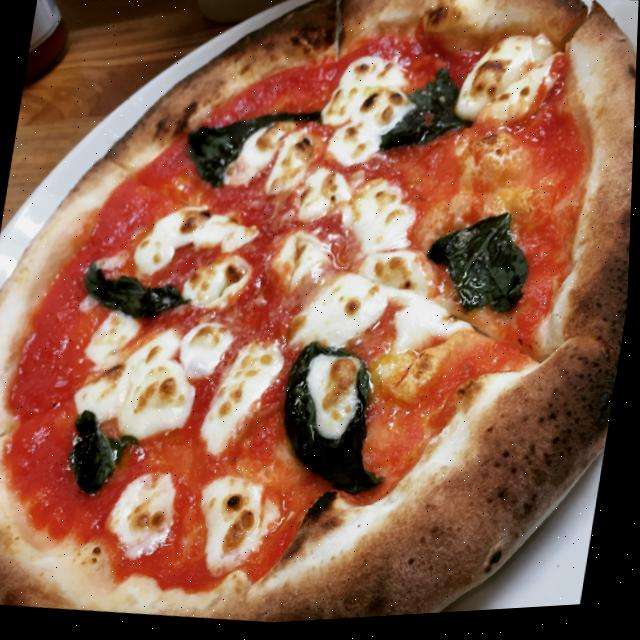basil: (269, 333, 410, 508), (414, 202, 541, 339), (173, 95, 327, 205), (377, 58, 485, 166), (78, 256, 200, 332), (63, 402, 149, 503)
pizza: (0, 0, 640, 640)
